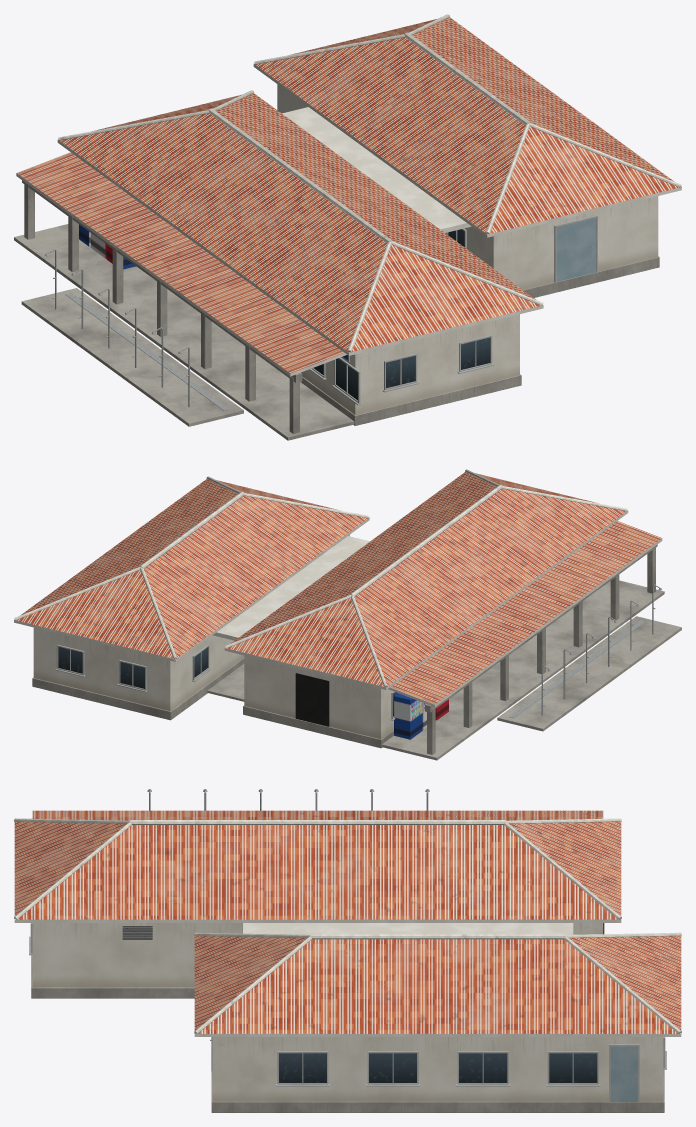
File: ArahaHouse.gltf
The picture shows the model from 3 angles, top to bottom: view 1: azimuth 30°, elevation 25°; view 2: azimuth 150°, elevation 25°; view 3: azimuth 270°, elevation 25°; orthographic projection. The views are drawn at different scales.
Visible parts, largest first — view 1: ArahaHouse; view 2: ArahaHouse; view 3: ArahaHouse.
Boxes of the visible parts, bbox=[...] form: ArahaHouse: bbox=[14, 14, 681, 440]; ArahaHouse: bbox=[14, 469, 681, 760]; ArahaHouse: bbox=[14, 789, 681, 1112].
Bounding box in the file's own units: 21.32 × 5.01 × 22.24.
14 materials, 14 textured.
